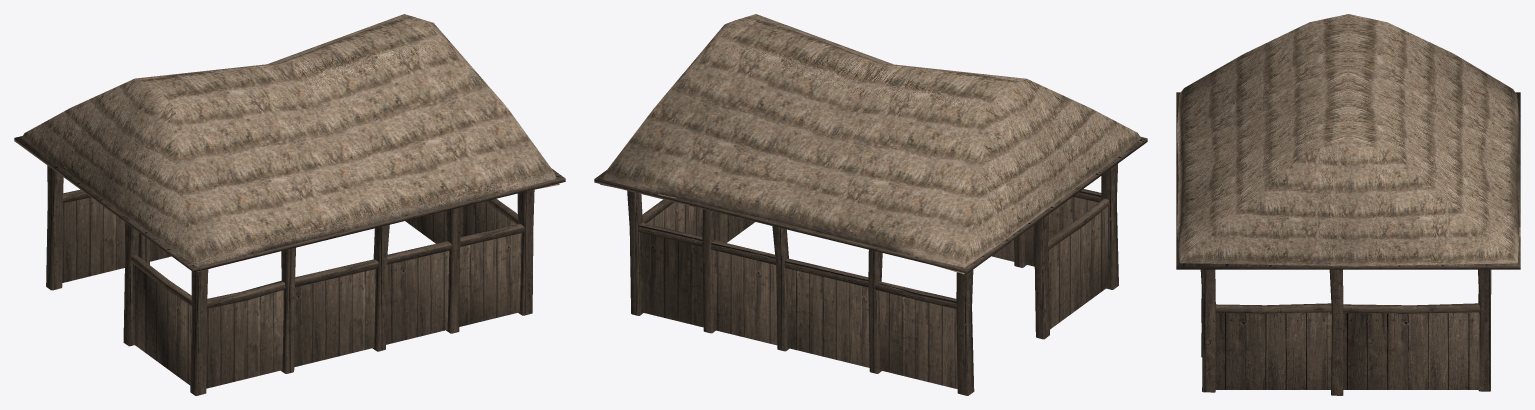
File: stab.dae
The picture shows the model from 3 angles, left to right: view 1: azimuth 30°, elevation 25°; view 2: azimuth 150°, elevation 25°; view 3: azimuth 270°, elevation 25°; orthographic projection. The views are drawn at different scales.
Parts seen in each view (by area): view 1: meshU3D; view 2: meshU3D; view 3: meshU3D.
Part boxes in pixels (x1,y1,x2,y2): meshU3D: (14,14,565,395); meshU3D: (594,14,1147,395); meshU3D: (1176,14,1520,395).
Size of the model in its own units: 8.56 by 5.5 by 7.15.
